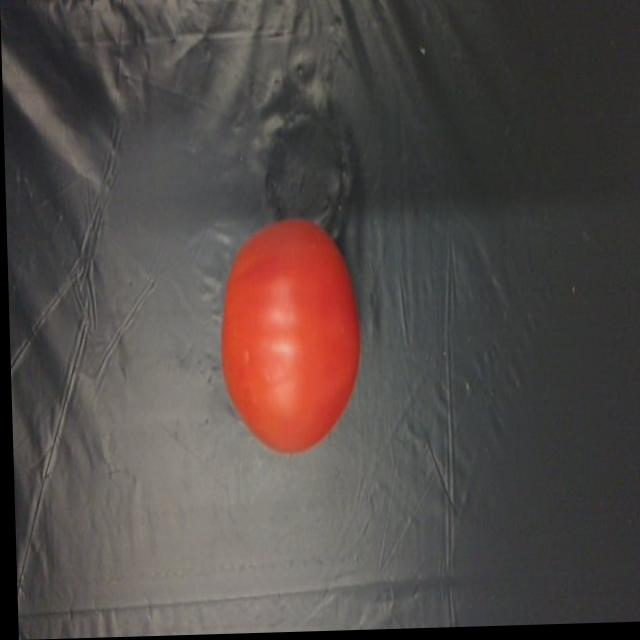kirmizi: (198, 206, 377, 455)
